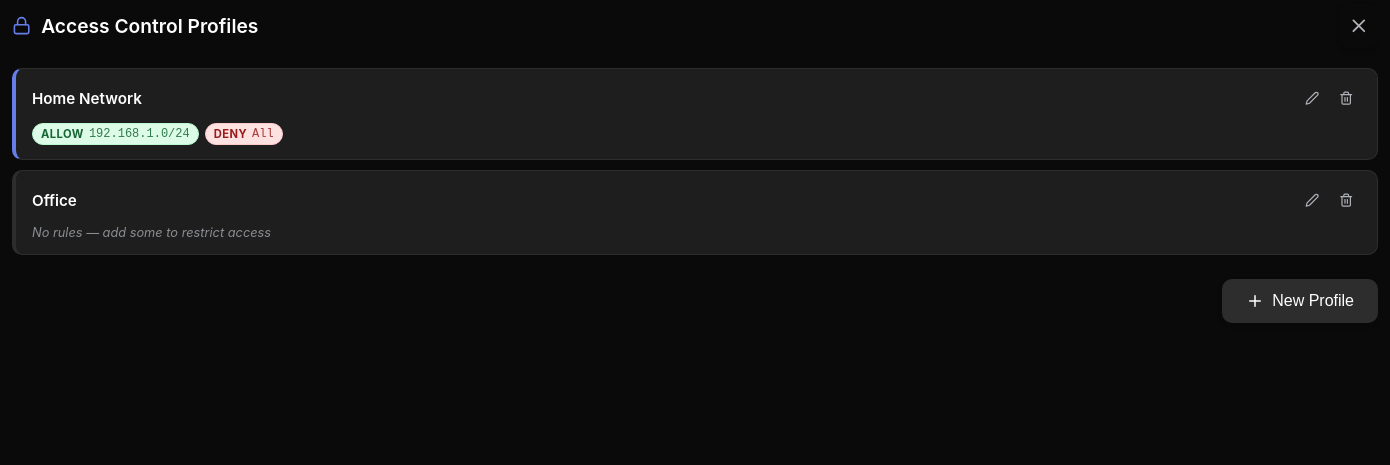
Test: AclManager — edit flow › edit button opens form pre-filled with profile data
Expected: the text "Home Network" is shown, [32,88,142,108]
Click the button named "edit home network". click: (1312, 98)
box: [1297,83,1327,113]
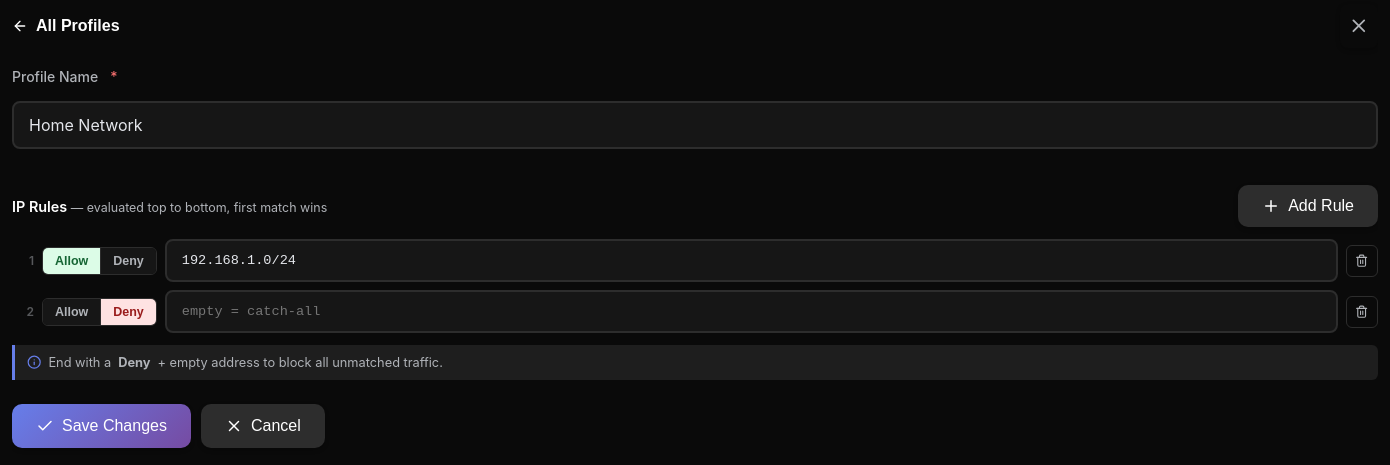
Expected: the field showing "Home Network" is shown, [12,101,1378,149]
